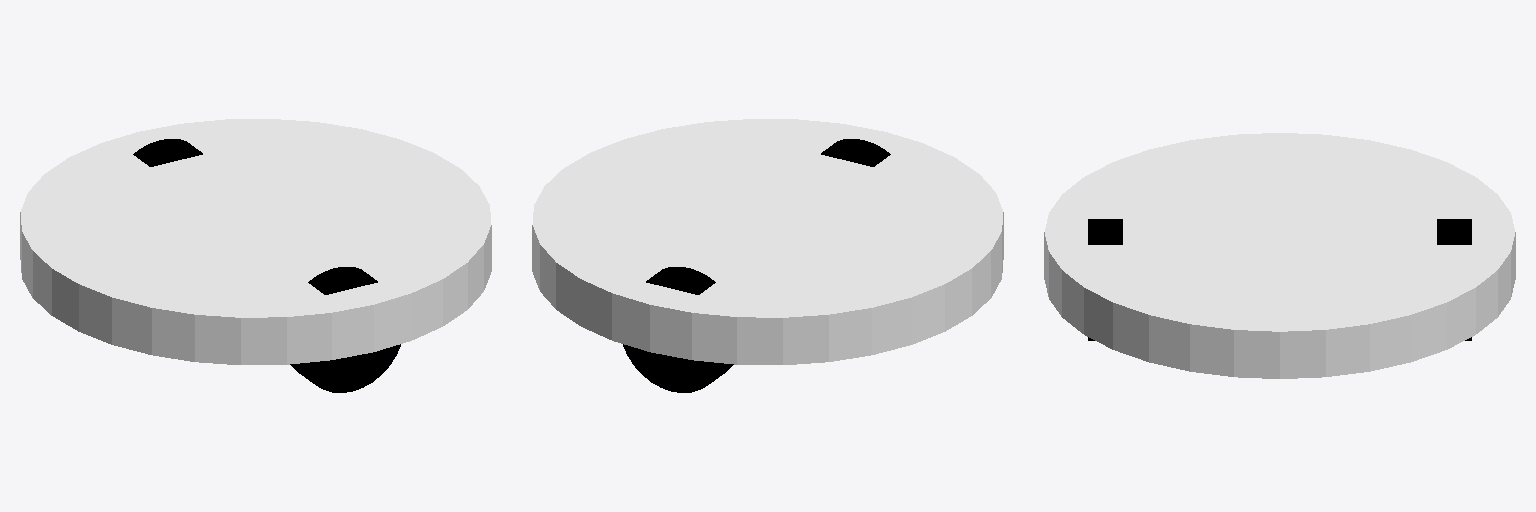
URDF robot description (test_robot):
<robot name="test_robot">  
  <link name="base_link">  
    <visual>  
       <geometry>  
          <cylinder length=".06" radius="0.27"></cylinder>  
       </geometry>  
       <origin rpy="0 0 0" xyz="0 0 0.1"/>  
       <material name="white">  
         <color rgba="1 1 1 1"/>  
       </material>  
    </visual>  
  </link>  
  
  <link name="right">  
    <visual>  
      <geometry>  
        <cylinder length="0.04" radius="0.07"/>  
      </geometry>  
      <origin rpy="0  0  0" xyz="0 0 0"/>  
      <material name="black">  
        <color rgba="0 0 0 1"/>  
      </material>  
    </visual>  
  </link>  
  
  <link name="left">  
    <visual>  
      <geometry>  
        <cylinder length="0.04" radius="0.07"/>  
      </geometry>  
      <origin rpy="0  0  0" xyz="0 0 0"/>  
      <material name="black"/>  
    </visual>  
  </link>  
  
  <joint name="right" type="continuous"> 
    <origin rpy="1.57075  0  0" xyz="0 -0.2 0.07"/>   
    <parent link="base_link"/>  
    <child link="right"/>  
  </joint>  
  
  <joint name="left" type="continuous">  
    <origin rpy="-1.57075 0 0" xyz="0 0.2 0.07"/>
    <parent link="base_link"/>  
    <child link="left"/>   
  </joint>  
 
 <link name="rplidar">
    <inertial>
      <mass value="1e-5"/>
      <origin rpy="0 0 0" xyz="0 0 0"/>
      <inertia ixx="1e-6" ixy="0" ixz="0" iyy="1e-6" iyz="0" izz="1e-6"/>
    </inertial>
    <visual>
      <origin rpy="0 0 0" xyz="0 0 0"/>
      <geometry>
        <mesh filename="package://p3dx_description/meshes/lms100.dae"/>
      </geometry>
    </visual>
    <collision>
      <origin rpy="0 0 0" xyz="0 0 0"/>
      <geometry>
        <cylinder length=".04" radius="0.035"></cylinder>  
      </geometry>
    </collision>
  </link>
  <joint name="rplidar_joint" type="fixed">
    <axis xyz="0 1 0"/>
    <origin xyz="0.2 0 0.12"/>
    <parent link="base_link"/>
    <child link="rplidar"/>
  </joint>

</robot>  

--- Render facts (derived) ---
Views: 3 orthographic renders of the robot side by side, from view 1: azimuth 30°, elevation 25°; view 2: azimuth 150°, elevation 25°; view 3: azimuth 270°, elevation 25°.
Robot: test_robot — 4 links, 3 joints (2 continuous, 1 fixed); root link base_link; default pose: every joint at zero.
Visible links, largest first — view 1: base_link, right, left; view 2: base_link, left, right; view 3: base_link, right, left.
Boxes of the visible links, x1=… form: base_link: x1=20, y1=119, x2=491, y2=364; right: x1=290, y1=267, x2=400, y2=392; left: x1=133, y1=139, x2=202, y2=166; base_link: x1=532, y1=119, x2=1003, y2=364; left: x1=623, y1=267, x2=733, y2=392; right: x1=821, y1=139, x2=890, y2=166; base_link: x1=1044, y1=133, x2=1515, y2=378; right: x1=1088, y1=219, x2=1122, y2=340; left: x1=1437, y1=219, x2=1471, y2=340.
Bounding box of the posed robot: 0.54 × 0.54 × 0.14 m (x, y, z).
0 mesh visuals loaded from 1 distinct referenced files (none loaded); not drawn: 1 (reference not matched to a file when rendering).